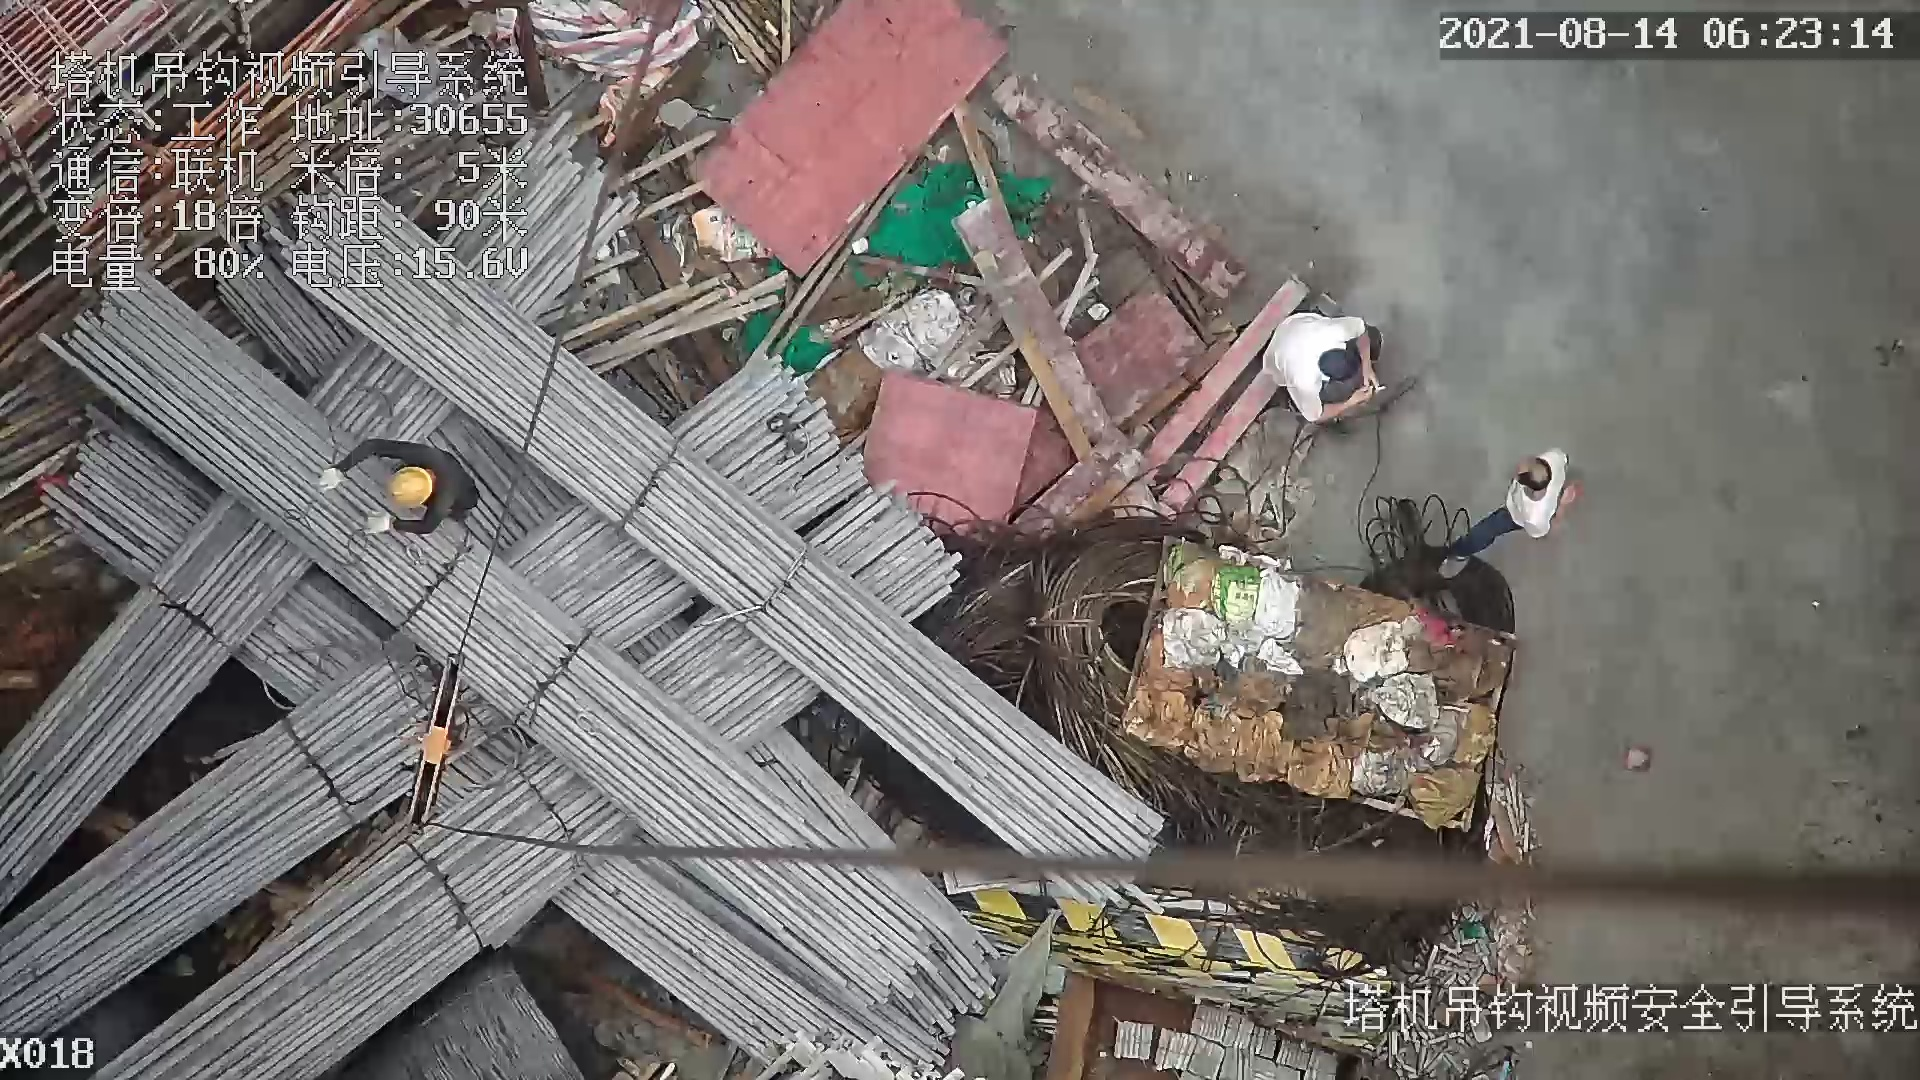board: (681, 1, 1006, 285)
helmet: (384, 461, 433, 506)
hook: (403, 645, 470, 835)
person: (299, 428, 488, 546), (1433, 426, 1585, 568), (1265, 301, 1403, 440)
